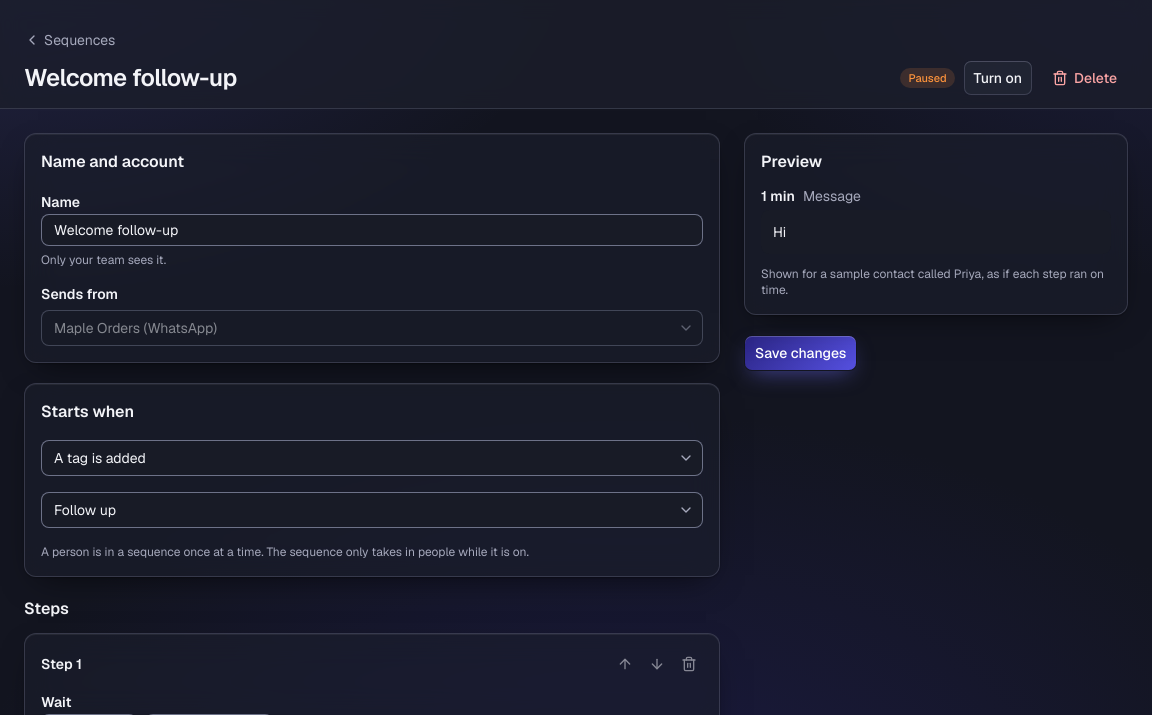
Scenario: the sequence form (GR-24) › shows the API's reason on the step it names
Click the button "Save changes".
click(801, 353)  # box [744,335,857,371]
(page scrolled)
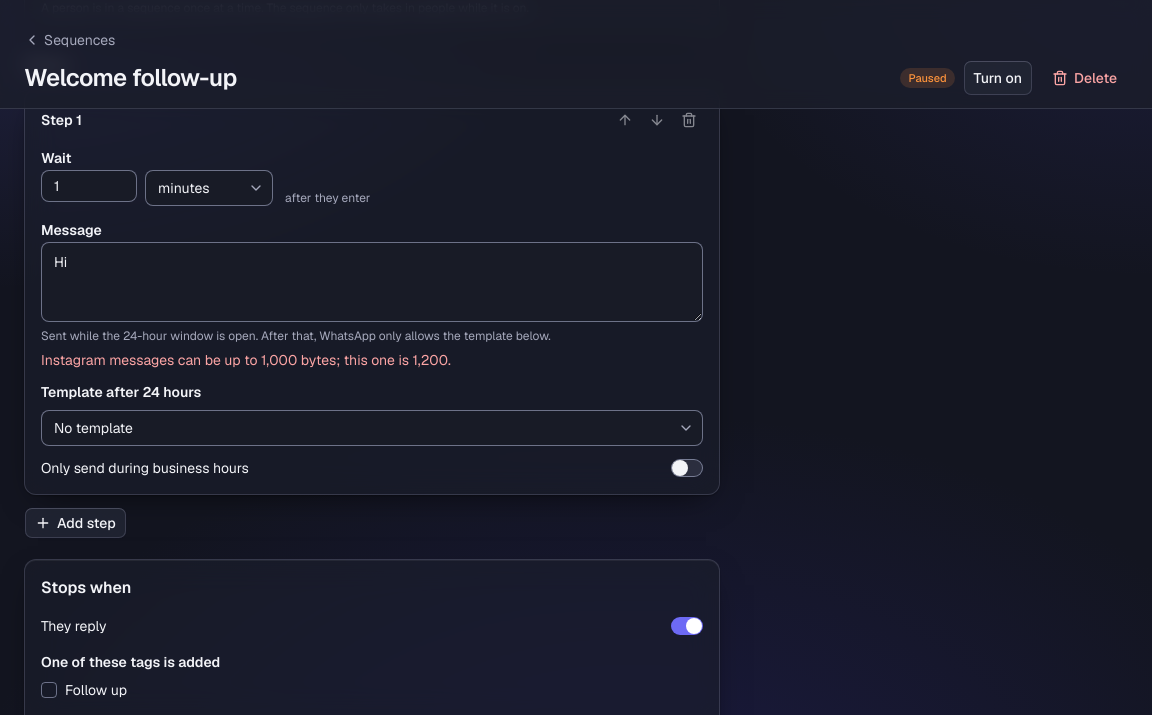
Expected: the text "can be up to 1,000 bytes" is shown, [41,351,451,369]
